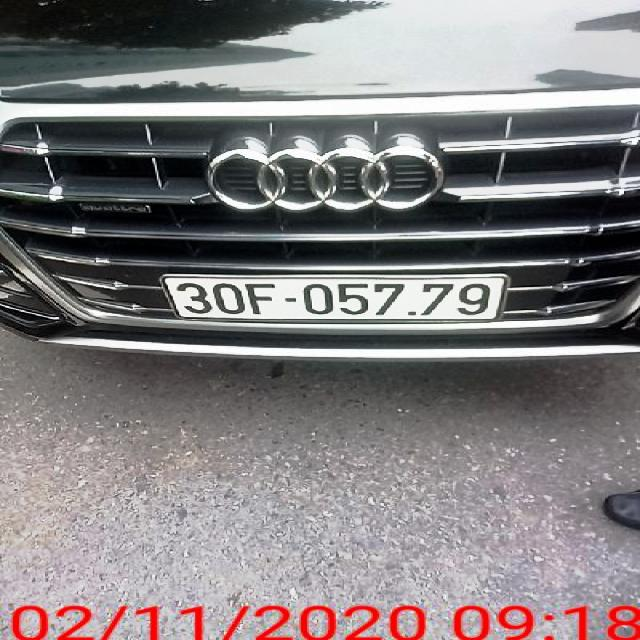license_plate: (164, 275, 510, 321)
